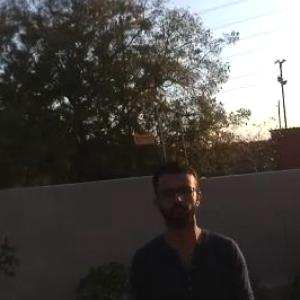follow: (123, 152, 265, 299)
